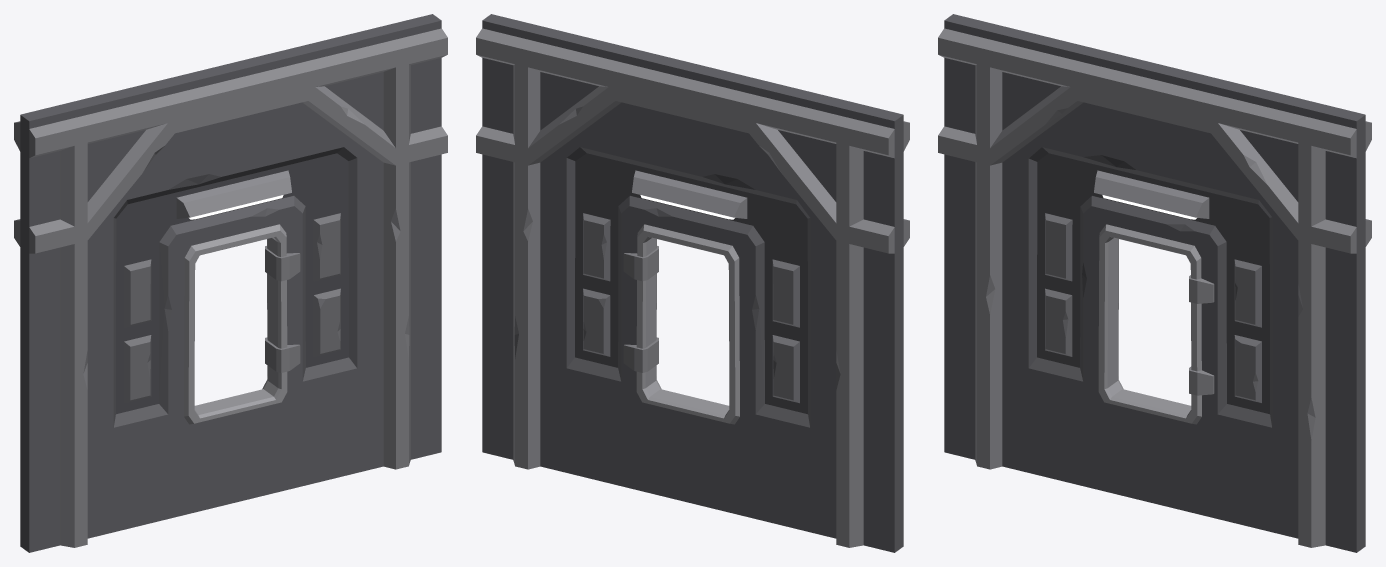
The model's file is SM_Bld_Wall_Doorframe_06.fbx.
The picture shows the model from 3 angles, left to right: view 1: azimuth 30°, elevation 25°; view 2: azimuth 150°, elevation 25°; view 3: azimuth 330°, elevation 25°; orthographic projection.
Visible parts, largest first — view 1: SM_Bld_Wall_Doorframe_06_LOD0; view 2: SM_Bld_Wall_Doorframe_06_LOD0; view 3: SM_Bld_Wall_Doorframe_06_LOD0.
Boxes of the visible parts, <box> form: SM_Bld_Wall_Doorframe_06_LOD0: <box>14,14,447,552</box>; SM_Bld_Wall_Doorframe_06_LOD0: <box>476,14,909,552</box>; SM_Bld_Wall_Doorframe_06_LOD0: <box>938,14,1371,552</box>.
Bounding box in the file's own units: 44.99 × 500 × 500.
1 material, 1 textured.
